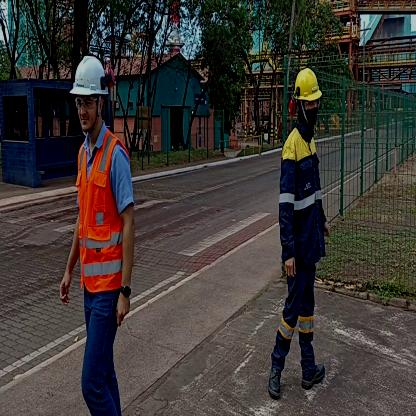Balaclava: (297, 96, 318, 134)
C_eletrica: (274, 126, 327, 285)
Capacete: (70, 52, 109, 99), (293, 66, 324, 101)
colete: (72, 135, 134, 299)
